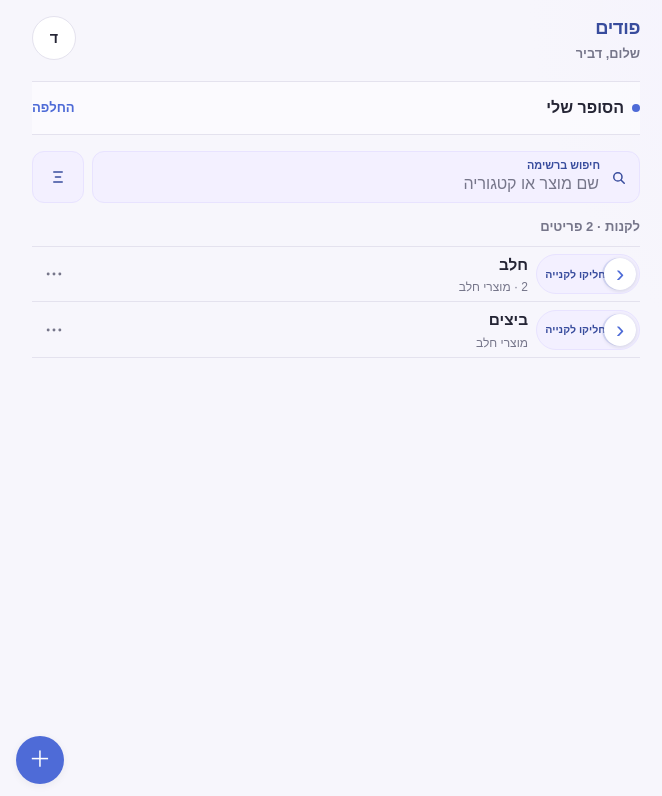
shows a Hebrew error toast and leaves the item in place when completing it fails (finding #3)
Click the button with aria-label "סמן את חלב כנקנה" at (588,274), box [536,254,640,294]
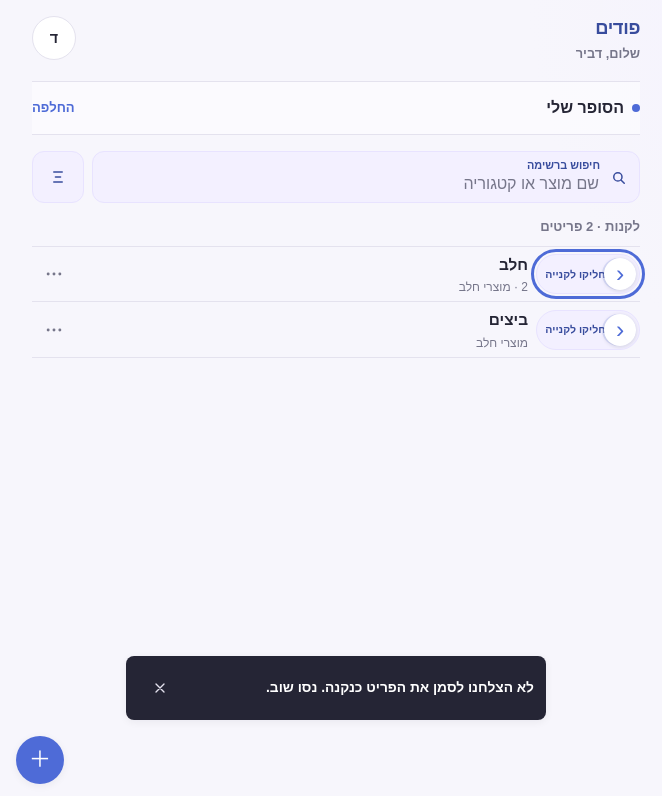
Expected: the text "חלב" is shown, [499,256,528,273]
Expected: the text "לא הצלחנו לסמן את הפריט כנקנה. נסו שוב." is shown, [266,680,534,695]
